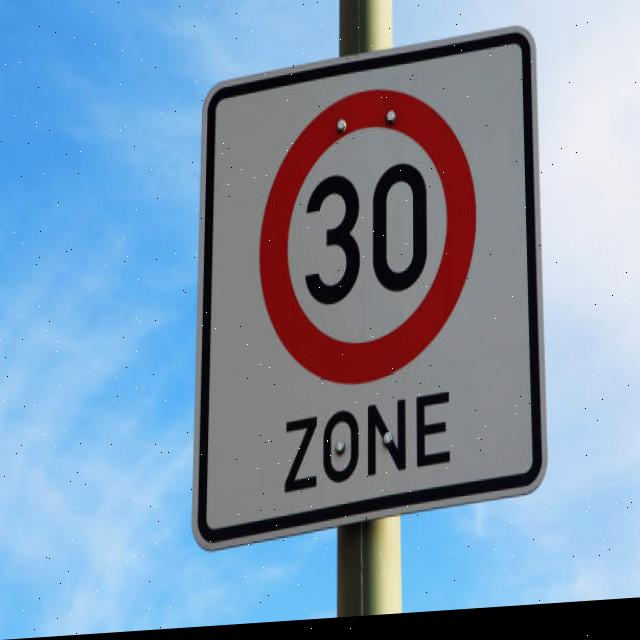Speed limit 30: (259, 89, 481, 405)
